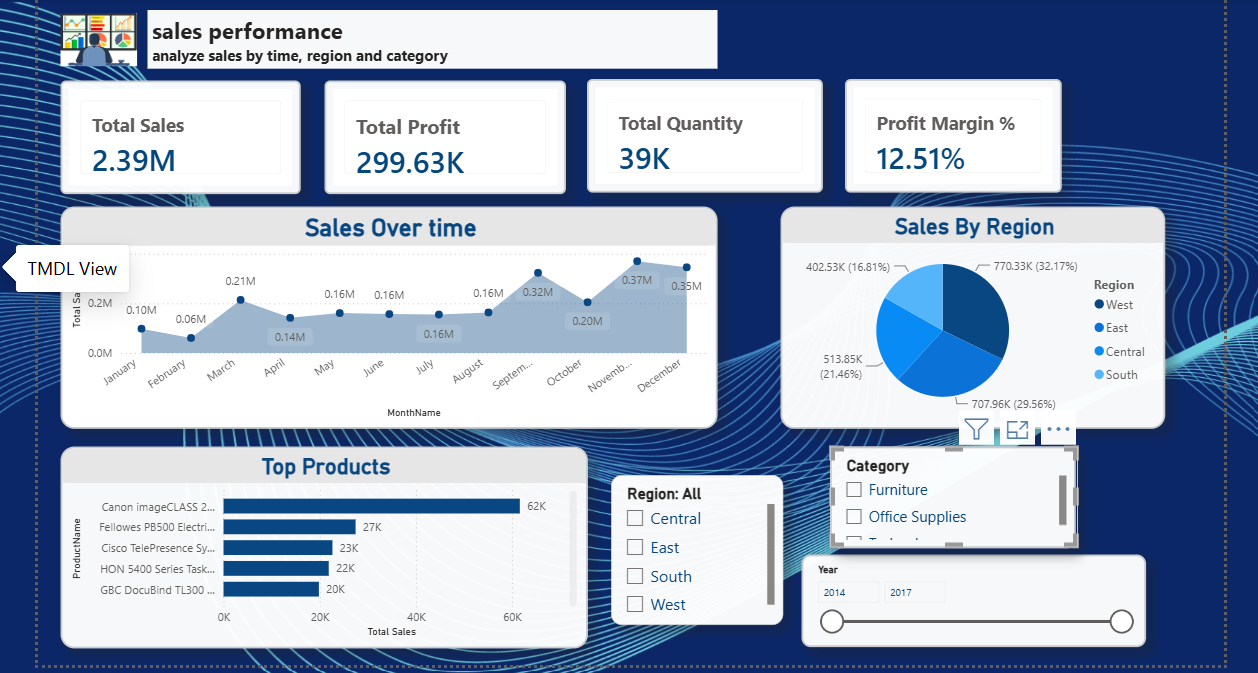

The page's visual inventory and layout, read from the dashboard file:
{"tool":"powerbi","page":{"name":"Sales Performance","canvas":[1280,720],"ordinal":0},"visuals":[{"type":"cardVisual","fields":{"Data":["FactSales.Total Sales"]},"box":[23.9,89.1,259.3,122.5],"z":0},{"type":"cardVisual","fields":{"Data":["FactSales.Total Profit"]},"box":[308.6,89.1,260.9,122.5],"z":1000},{"type":"cardVisual","fields":{"Data":["FactSales.Total Quantity"]},"box":[593.3,87.5,254.5,122.5],"z":2000},{"type":"lineChart","title":"Sales Over time","fields":{"Y":["FactSales.Total Sales"],"Category":["DimDate.MonthName"]},"box":[23.9,224.3,709.4,240.2],"z":3000},{"type":"barChart","title":"Top Products","fields":{"Category":["DimProduct.ProductName"],"Y":["FactSales.Total Sales"]},"box":[23.9,483.5,569.4,217.9],"z":4000},{"type":"pieChart","title":"Sales By Region","fields":{"Category":["DimLocation.Region"],"Y":["FactSales.Total Sales"]},"box":[801.7,224.3,415.1,240.2],"z":5000},{"type":"slicer","fields":{"Values":["DimDate.Year"]},"box":[823.9,601.3,372.2,100.2],"z":6000},{"type":"slicer","fields":{"Values":["DimProduct.Category"]},"box":[855.7,483.5,265.6,109.8],"z":7000},{"type":"slicer","fields":{"Values":["DimLocation.Region"]},"box":[618.7,515.4,186.1,162.2],"z":8000},{"type":"cardVisual","fields":{"Data":["FactSales.Profit Margin %"]},"box":[871.7,87.5,233.8,122.5],"z":9000},{"type":"textbox","box":[117.7,12.7,615.6,63.6],"z":10000},{"type":"image","box":[23.9,12.7,82.7,63.6],"z":11000}]}

Visuals, with their boxes in screenshot pixels (x1, y1, x2, y2):
cardVisual - FactSales.Total Sales: l=58, t=79, r=297, b=191
cardVisual - FactSales.Total Profit: l=320, t=79, r=560, b=191
cardVisual - FactSales.Total Quantity: l=582, t=77, r=816, b=190
"Sales Over time" lineChart: l=58, t=203, r=711, b=424
"Top Products" barChart: l=58, t=441, r=582, b=642
"Sales By Region" pieChart: l=773, t=203, r=1155, b=424
slicer - DimDate.Year: l=794, t=550, r=1136, b=642
slicer - DimProduct.Category: l=823, t=441, r=1067, b=542
slicer - DimLocation.Region: l=605, t=471, r=776, b=620
cardVisual - FactSales.Profit Margin %: l=838, t=77, r=1053, b=190
textbox: l=144, t=8, r=711, b=67
image: l=58, t=8, r=134, b=67
